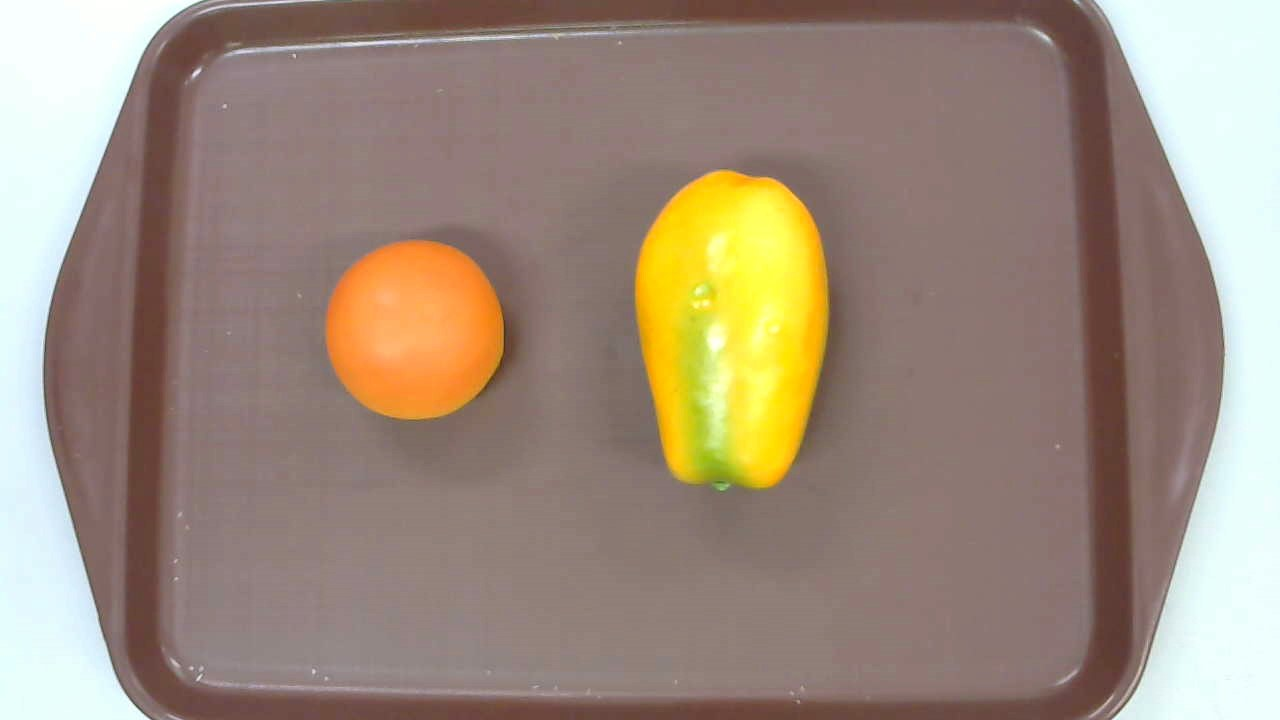bun: (325, 240, 503, 420)
papya: (634, 169, 828, 492)
